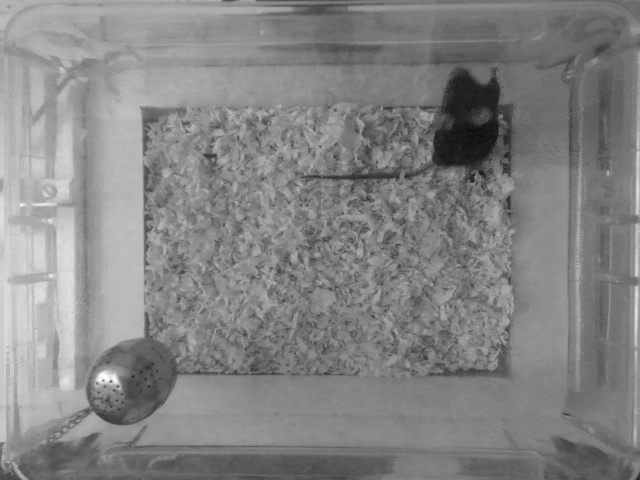mice: (297, 61, 505, 182)
